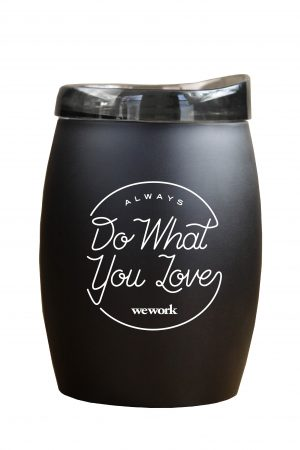wework: (129, 302, 179, 317)
